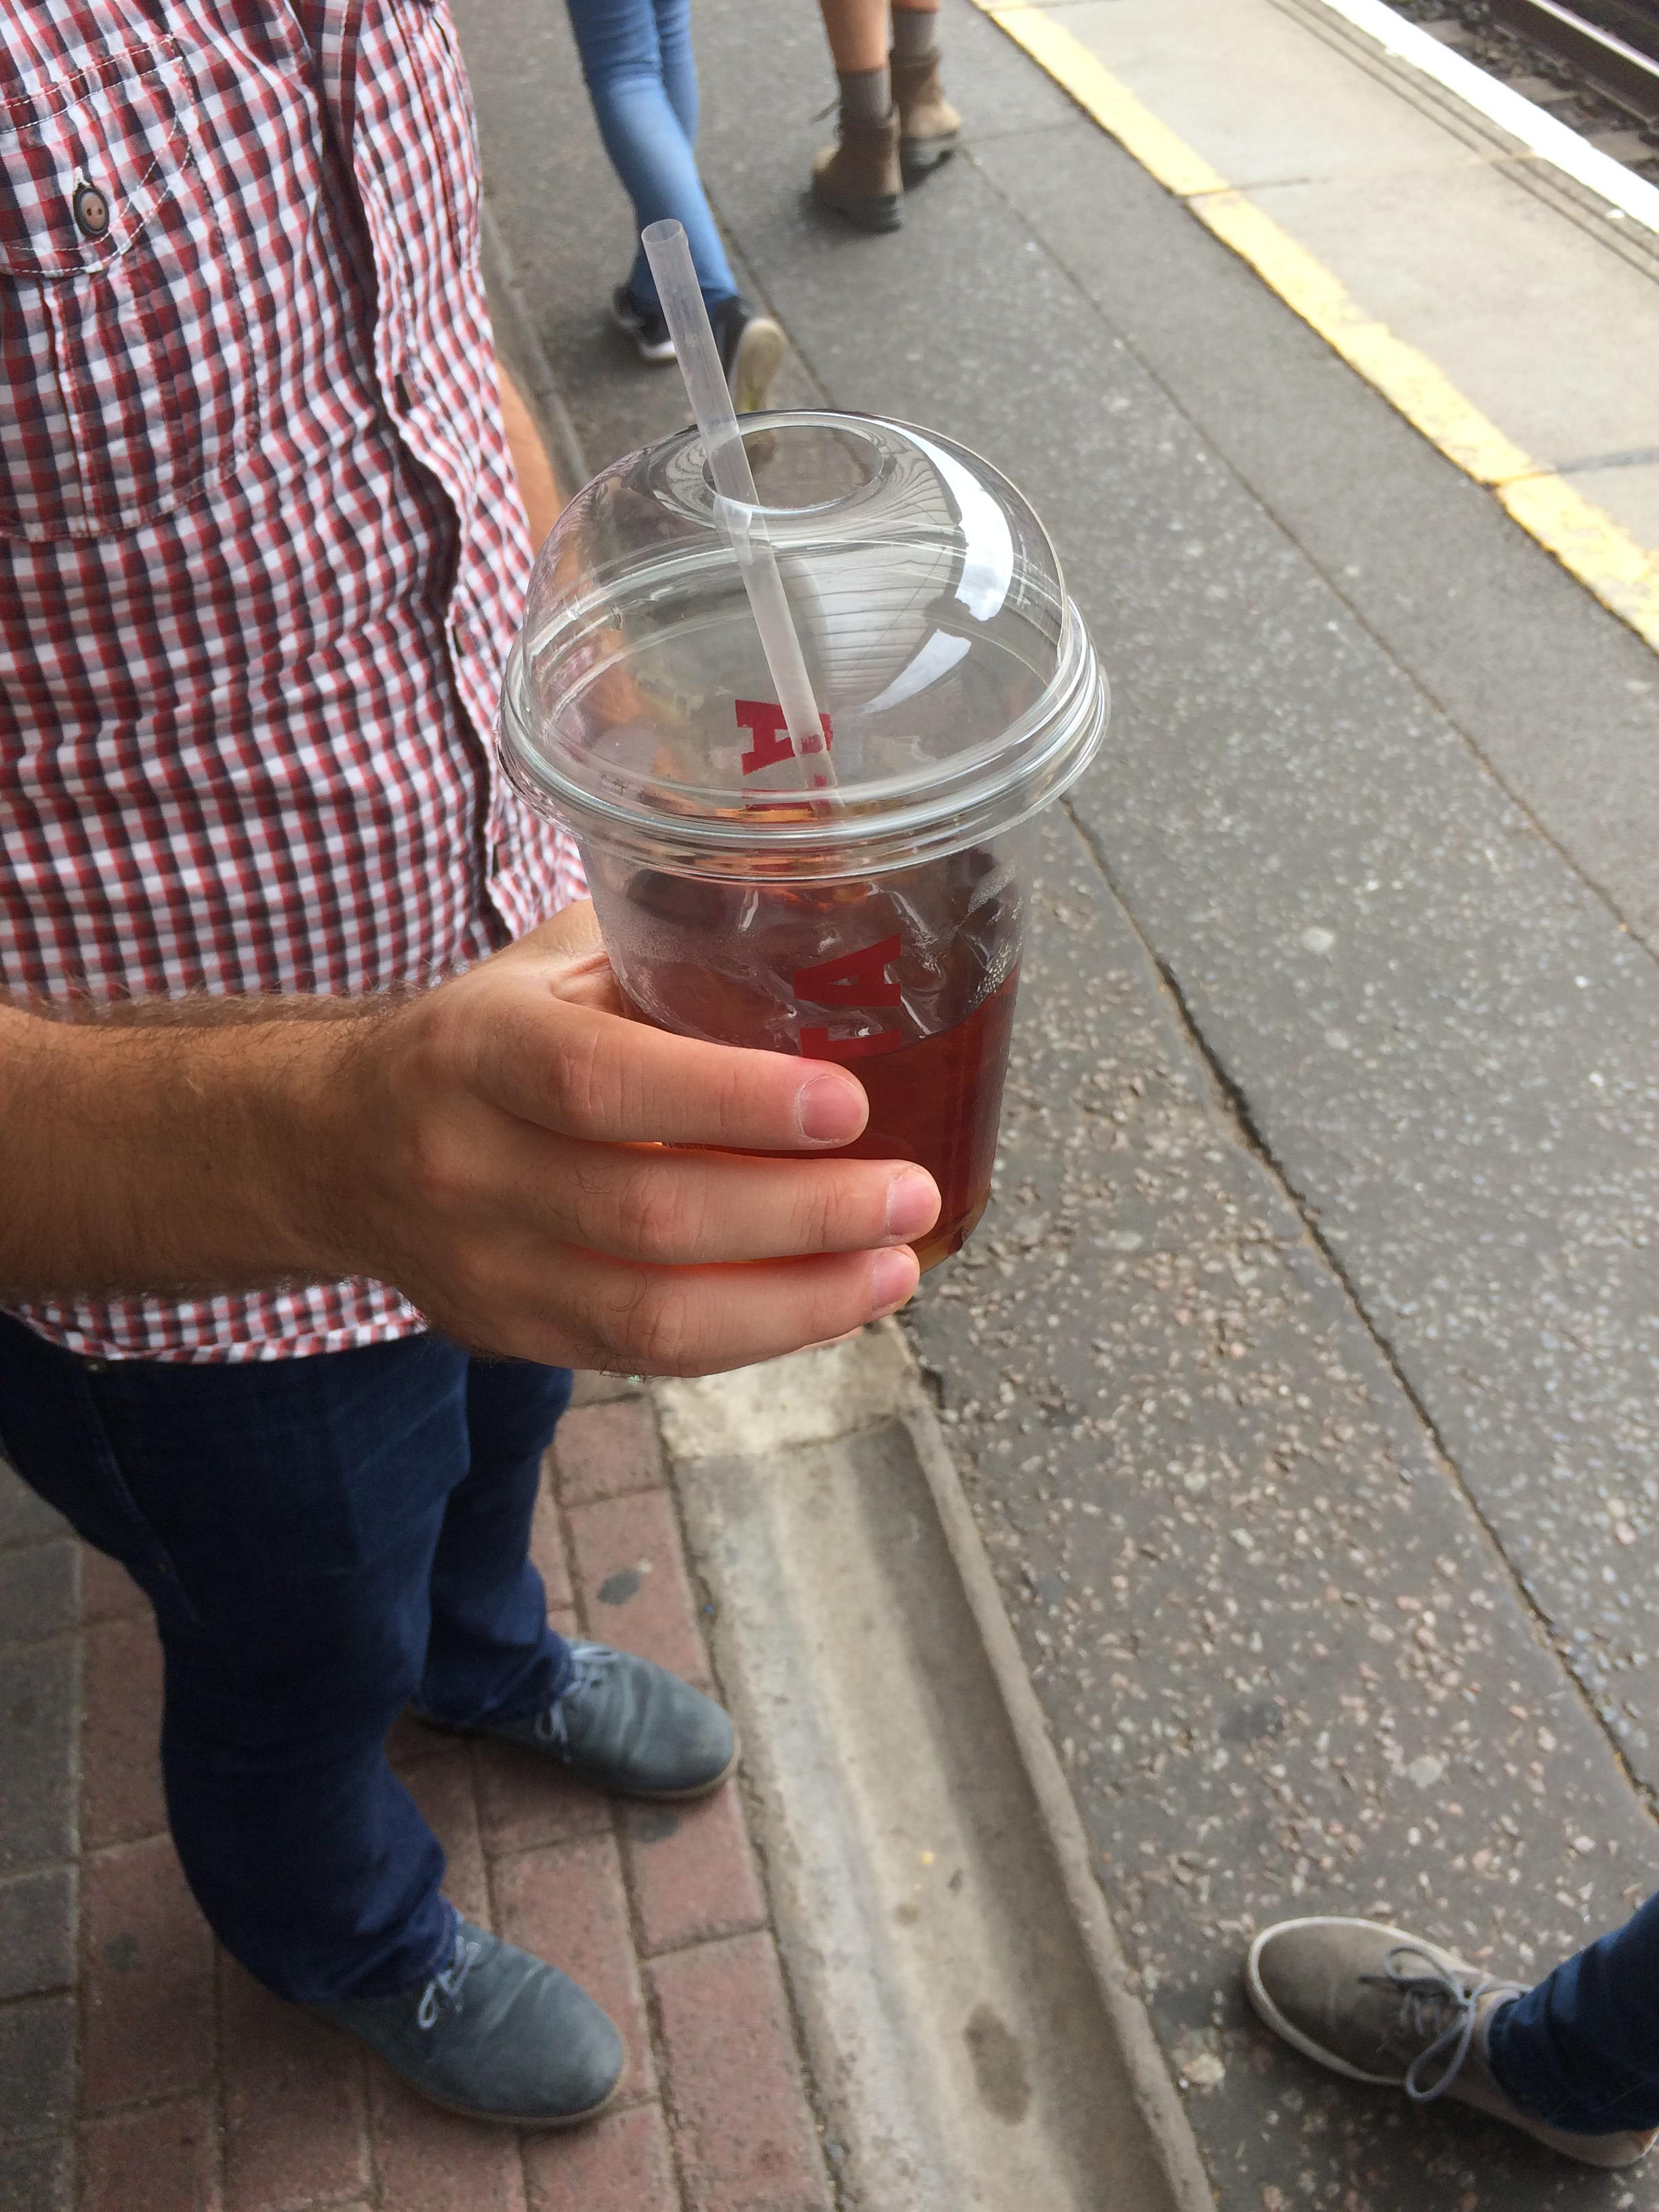Trash: (512, 368, 1101, 1285)
